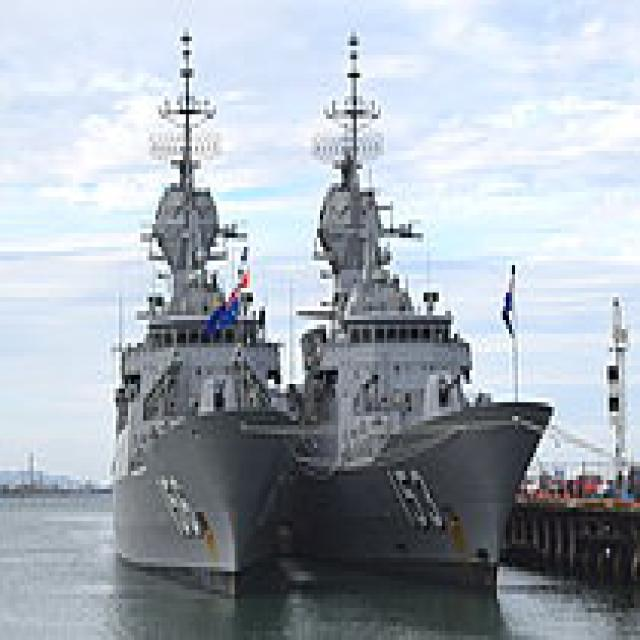Warship: (290, 14, 554, 599), (104, 14, 317, 599)
